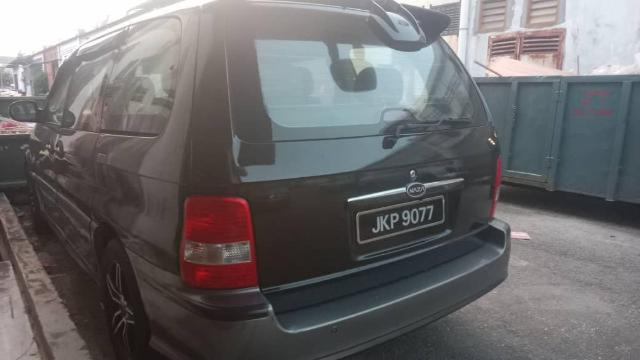License_Plate: (370, 202, 438, 242)
